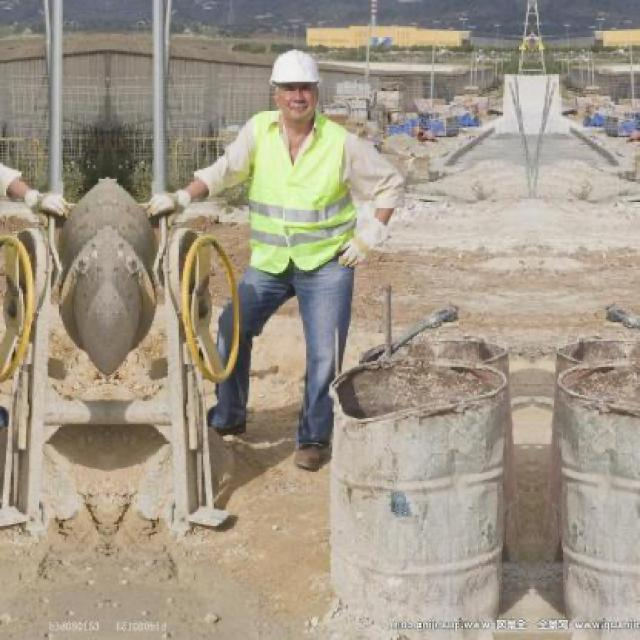con casco: (230, 39, 358, 170)
